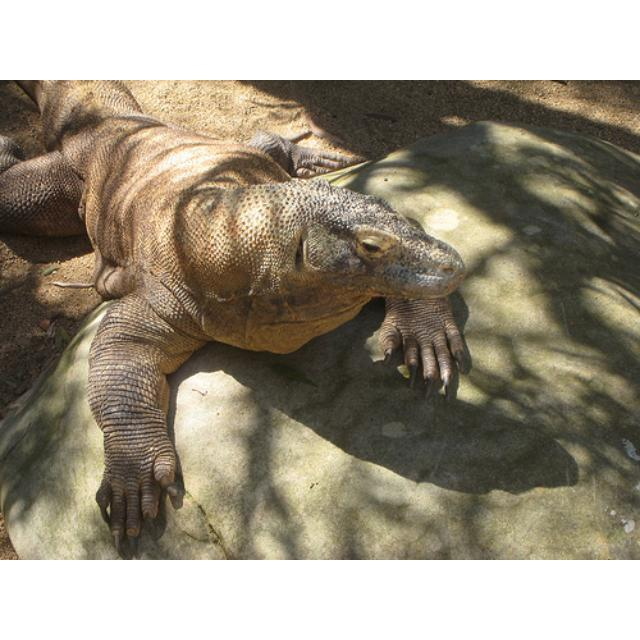KomodoDragon: (1, 81, 472, 558)
